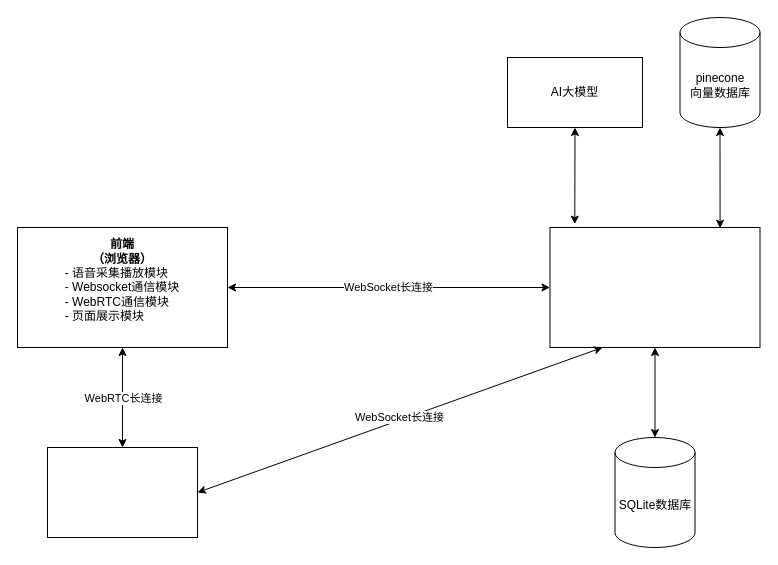
This 778x565 diagram has some shape labels left out. The shapes that lost their labels are listed below. From the top down, each one's box as (x1, y1, x2, y2) in pixels, then its label:
(549, 226, 760, 348): golang后端 - Websocket通信模块 - LLM调用与管理模块 - pinecone调用模块 - 用户登录注册模块 - 会话管理模块
(46, 446, 198, 538): Rustpbx - Vad打断模块 - WebRTC通信模块 - ASR服务调用模块 - TTS服务调用模块
